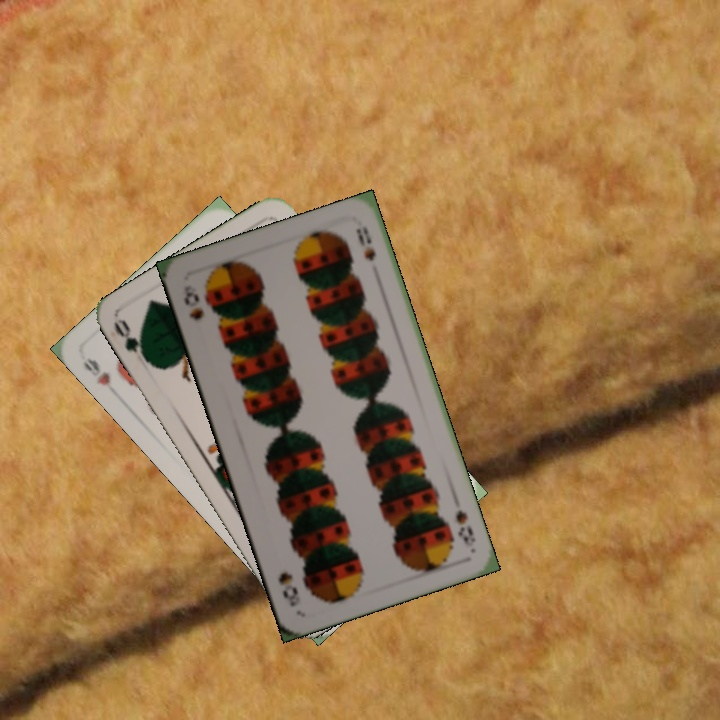GO: (110, 315, 154, 367)
H9: (79, 353, 113, 388)
S8: (451, 505, 478, 550), (180, 287, 207, 323)
